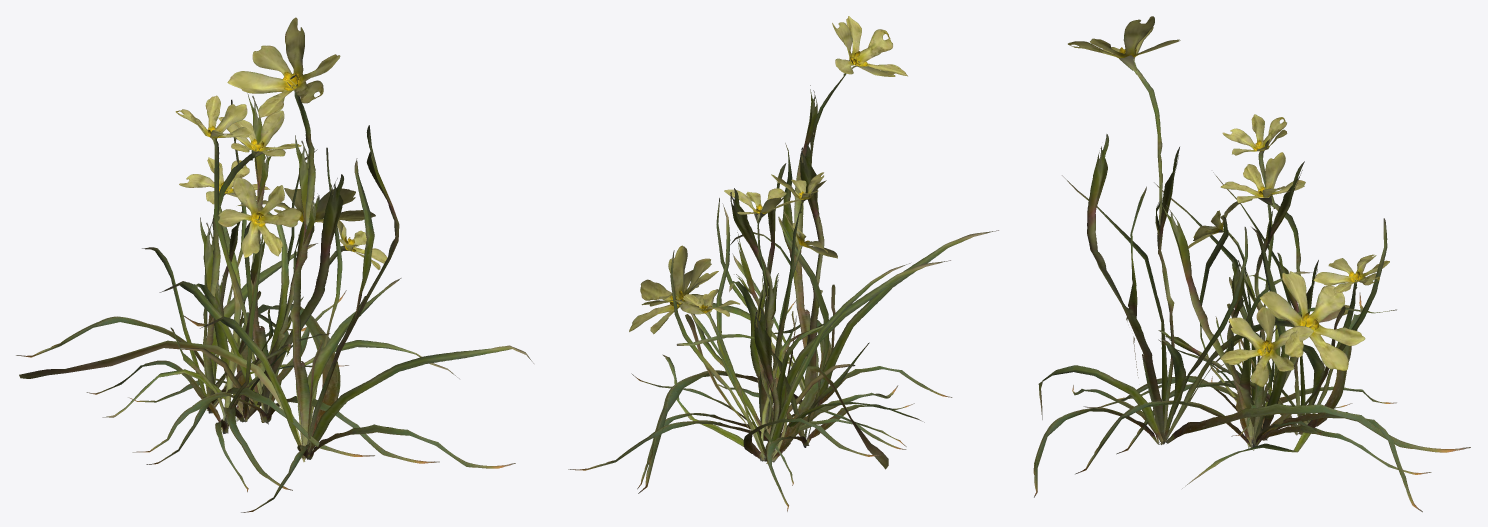
File: yellow-wildflower.glb
3 renders of one model, left to right at view 1: azimuth 30°, elevation 25°; view 2: azimuth 150°, elevation 25°; view 3: azimuth 270°, elevation 25°, orthographic. The views are drawn at different scales.
Visible parts, largest first — view 1: yellow-wildflower_a, yellow-wildflower_c, yellow-wildflower_b, yellow-wildflower_d, yellow-wildflower_e; view 2: yellow-wildflower_a, yellow-wildflower_c, yellow-wildflower_b, yellow-wildflower_d, yellow-wildflower_e; view 3: yellow-wildflower_a, yellow-wildflower_b, yellow-wildflower_c, yellow-wildflower_d, yellow-wildflower_e.
Boxes of the visible parts, box(x1,y1,x2,y2) form: yellow-wildflower_a: box(19, 17, 533, 512); yellow-wildflower_c: box(16, 99, 459, 464); yellow-wildflower_b: box(128, 93, 439, 463); yellow-wildflower_d: box(102, 149, 343, 490); yellow-wildflower_e: box(86, 207, 348, 492); yellow-wildflower_a: box(629, 16, 998, 493); yellow-wildflower_c: box(662, 188, 910, 463); yellow-wildflower_b: box(631, 172, 950, 489); yellow-wildflower_d: box(568, 163, 924, 470); yellow-wildflower_e: box(676, 216, 914, 511); yellow-wildflower_a: box(1033, 16, 1470, 497); yellow-wildflower_b: box(1075, 114, 1431, 474); yellow-wildflower_c: box(1116, 152, 1389, 488); yellow-wildflower_d: box(1083, 199, 1422, 512); yellow-wildflower_e: box(1117, 216, 1396, 436).
Size of the model in its own units: 0.2174 by 0.2671 by 0.2508.
1 material, 1 textured.
